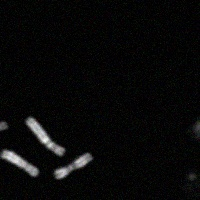chromosome: (26, 116, 66, 157), (0, 150, 39, 177), (55, 152, 92, 179), (190, 121, 200, 144), (0, 122, 8, 145)
